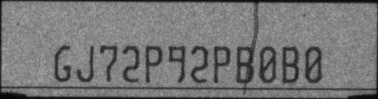0: (304, 45, 323, 83), (259, 46, 276, 83)
2: (122, 44, 141, 83), (191, 45, 208, 83)
7: (99, 44, 118, 82)
9: (168, 45, 185, 83)
B: (235, 45, 254, 83), (280, 46, 299, 83)
G: (54, 45, 71, 82)
H: (76, 45, 95, 82)
P: (144, 45, 163, 82), (213, 44, 230, 82)
